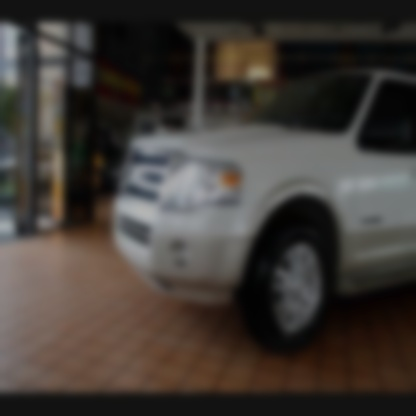Vehicle: (113, 68, 415, 354)
